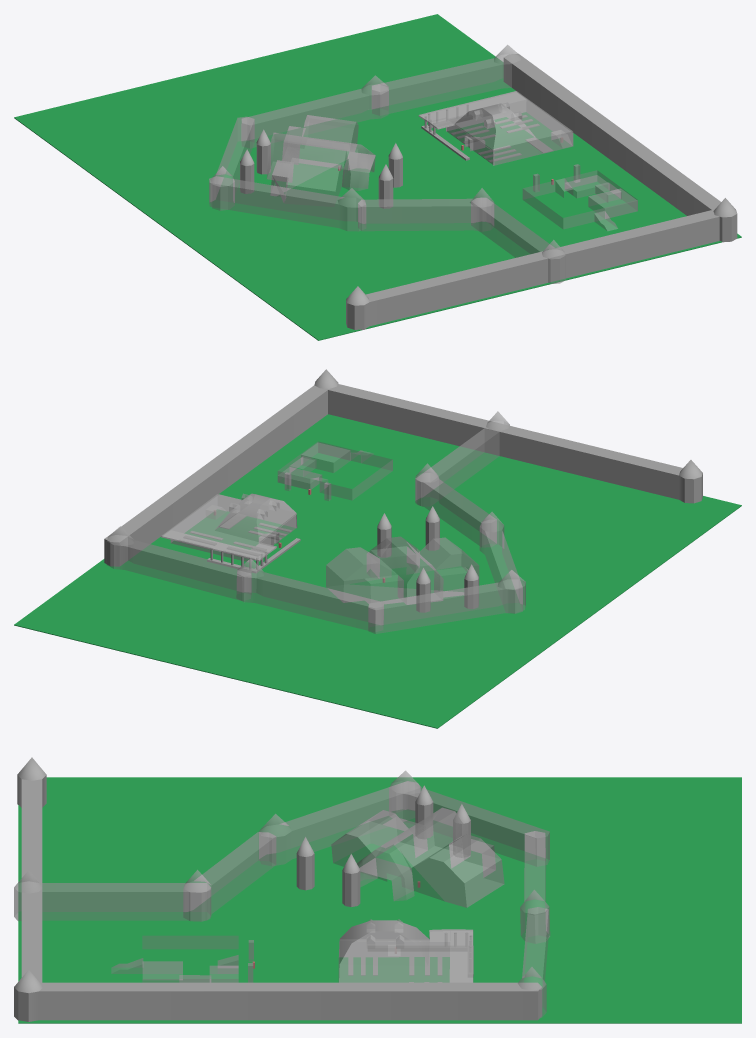
Rendered from LevelTest1.fbx.
The picture shows the model from 3 angles, top to bottom: view 1: azimuth 30°, elevation 25°; view 2: azimuth 150°, elevation 25°; view 3: azimuth 270°, elevation 25°; orthographic projection. The views are drawn at different scales.
Parts seen in each view (by area): view 1: pCube2, pCylinder1, pCylinder4, pCube20, pCube25, pCylinder30, pCylinder11, pCylinder6, pCylinder9, pCylinder5, pCube3, pCylinder31 (+5 smaller); view 2: pCube2, pCylinder1, pCylinder4, pCube20, pCube25, pCylinder31, pCylinder9, pCylinder11, pCylinder5, pCylinder6, pCylinder30, pCube3 (+2 smaller); view 3: pCube2, pCylinder4, pCube20, pCube25, pCylinder5, pCylinder30, pCylinder1, pCylinder31, pCylinder6, pCylinder9, pCylinder11, pCube3 (+6 smaller).
Boxes of the visible parts, left/top/right/bottom form: pCube2: left=14, top=14, right=741, bottom=340; pCylinder1: left=346, top=209, right=719, bottom=329; pCylinder4: left=503, top=53, right=737, bottom=242; pCube20: left=266, top=115, right=375, bottom=202; pCube25: left=418, top=91, right=573, bottom=165; pCylinder30: left=209, top=176, right=365, bottom=231; pCylinder11: left=372, top=45, right=520, bottom=115; pCylinder6: left=358, top=188, right=494, bottom=231; pCylinder9: left=241, top=75, right=388, bottom=148; pCylinder5: left=471, top=198, right=565, bottom=283; pCube3: left=522, top=170, right=637, bottom=229; pCylinder31: left=210, top=116, right=254, bottom=210; pCube2: left=14, top=414, right=741, bottom=728; pCylinder1: left=315, top=384, right=702, bottom=503; pCylinder4: left=104, top=369, right=338, bottom=566; pCube20: left=326, top=536, right=479, bottom=604; pCube25: left=161, top=493, right=297, bottom=561; pCylinder31: left=368, top=570, right=525, bottom=633; pCylinder9: left=236, top=558, right=383, bottom=631; pCylinder11: left=106, top=526, right=251, bottom=600; pCylinder5: left=415, top=411, right=509, bottom=506; pCylinder6: left=415, top=463, right=496, bottom=547; pCylinder30: left=479, top=512, right=522, bottom=613; pCube3: left=277, top=441, right=392, bottom=500; pCube2: left=18, top=777, right=741, bottom=1023; pCylinder4: left=14, top=969, right=542, bottom=1021; pCube20: left=331, top=807, right=504, bottom=907; pCube25: left=338, top=920, right=473, bottom=982; pCylinder5: left=14, top=870, right=211, bottom=920; pCylinder30: left=259, top=781, right=420, bottom=865; pCylinder1: left=17, top=757, right=46, bottom=990; pCylinder31: left=389, top=770, right=549, bottom=866; pCylinder6: left=183, top=832, right=275, bottom=921; pCylinder9: left=520, top=831, right=550, bottom=943; pCylinder11: left=518, top=907, right=548, bottom=1017; pCube3: left=142, top=936, right=238, bottom=982.
Bounding box in the file's own units: 181 × 22.43 × 227.
